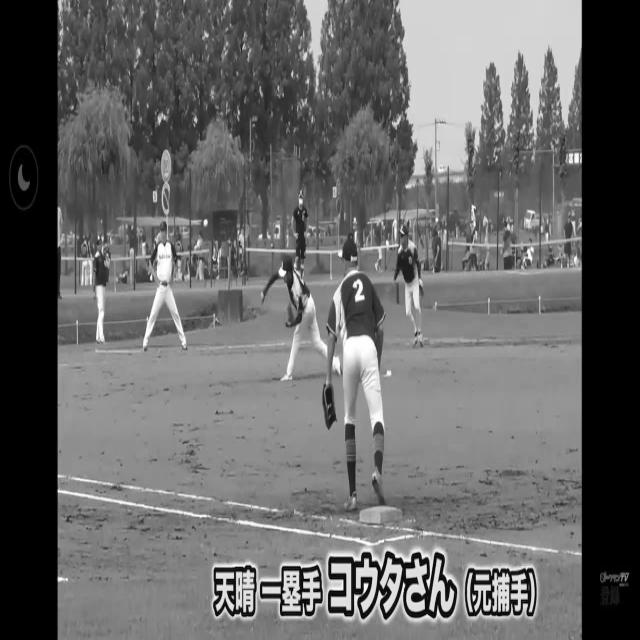base: (359, 506, 402, 524)
baseball: (204, 218, 208, 228)
baseball_glove: (322, 379, 339, 433), (284, 301, 296, 327)
shoe: (372, 470, 385, 500), (344, 494, 359, 511), (333, 357, 341, 378), (281, 373, 293, 383)
